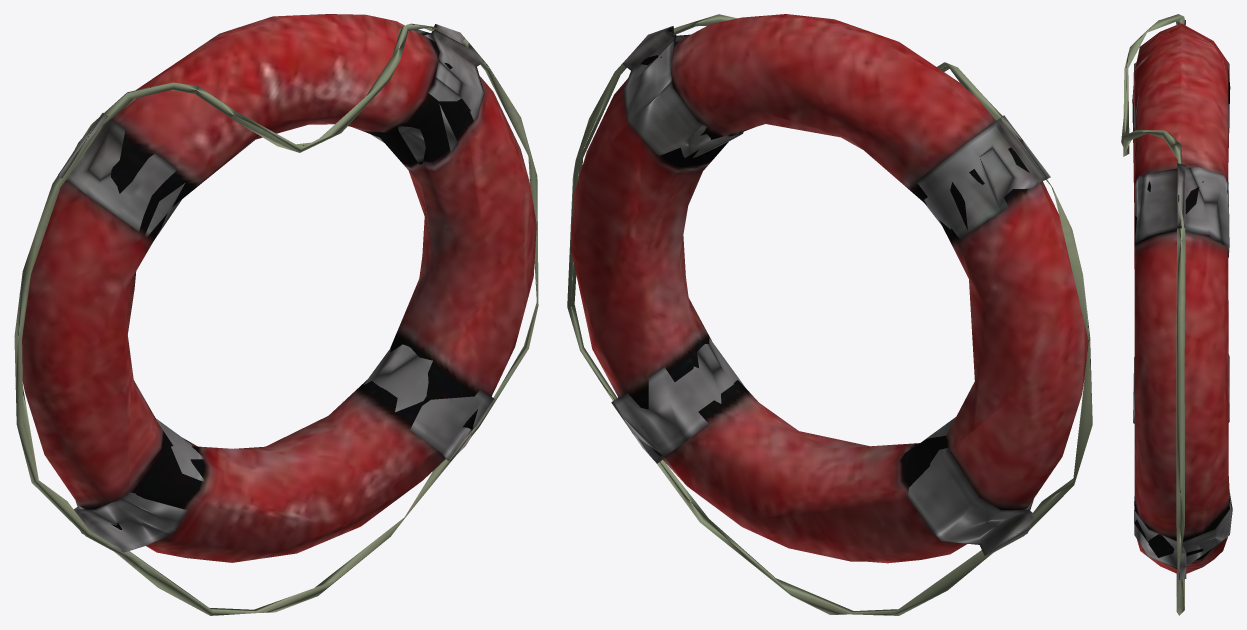
Rendered from lifebuoy.glb.
3 renders of one model, left to right at view 1: azimuth 30°, elevation 25°; view 2: azimuth 150°, elevation 25°; view 3: azimuth 270°, elevation 25°, orthographic. The views are drawn at different scales.
Visible parts, largest first — view 1: lifebuoy; view 2: lifebuoy; view 3: lifebuoy.
Boxes of the visible parts, x1,y1,x2,y2 form: lifebuoy: [14, 14, 538, 615]; lifebuoy: [567, 14, 1092, 615]; lifebuoy: [1121, 14, 1232, 615].
Bounding box in the file's own units: 0.777 × 0.8396 × 0.153.
1 material, 1 textured.
